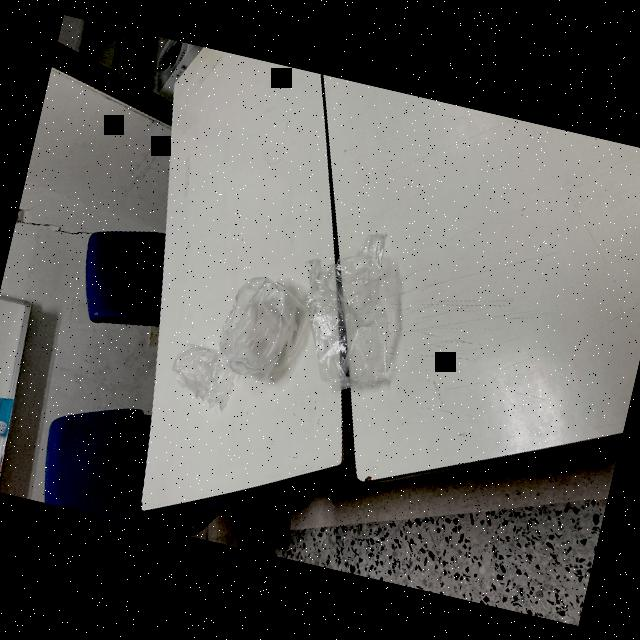plastic_bag: (277, 208, 433, 410), (210, 264, 318, 394), (163, 332, 236, 417)
